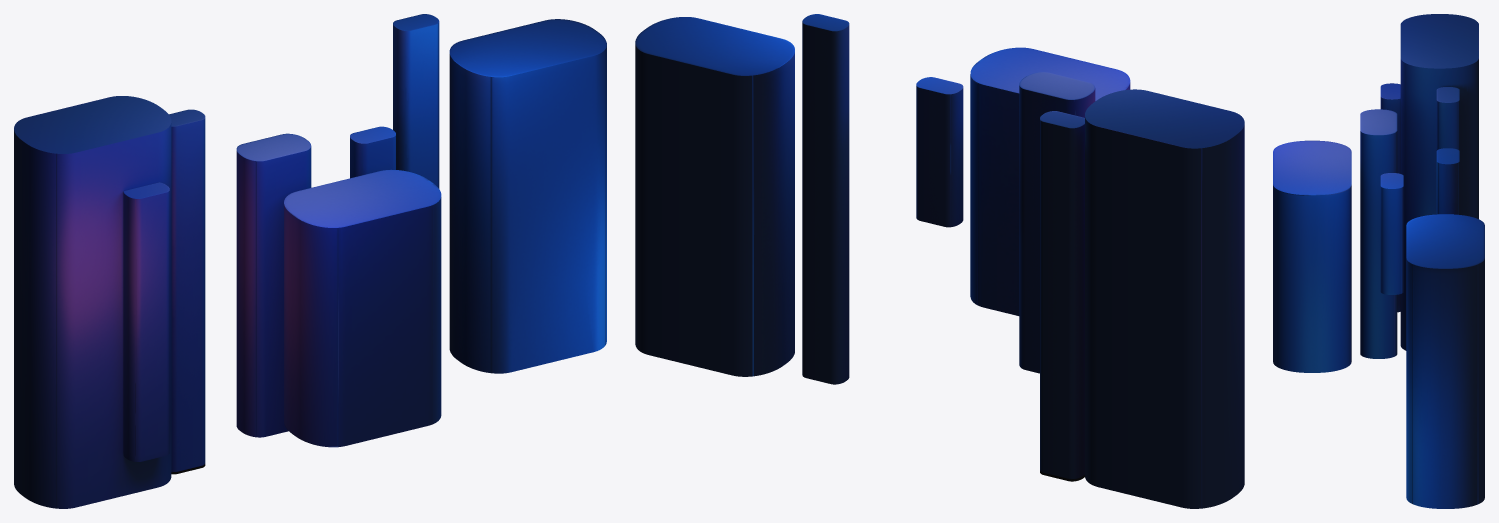
Rendered from telefono_base.glb.
The picture shows the model from 3 angles, left to right: view 1: azimuth 30°, elevation 25°; view 2: azimuth 150°, elevation 25°; view 3: azimuth 270°, elevation 25°; orthographic projection. The views are drawn at different scales.
Visible parts, largest first — view 1: Cube.034, Cube.035, Cube.033, Cube.037, Cube.040, Cube.039, Cube.038, Cube.036; view 2: Cube.035, Cube.034, Cube.038, Cube.039, Cube.033, Cube.037, Cube.036; view 3: Cube.034, Cube.033, Cube.035, Cube.037, Cube.036, Cube.038, Cube.039, Cube.040.
Boxes of the visible parts, <box> form: Cube.034: <box>449,19,606,373</box>; Cube.035: <box>14,96,171,508</box>; Cube.033: <box>284,169,441,447</box>; Cube.037: <box>236,133,311,437</box>; Cube.040: <box>123,182,169,461</box>; Cube.039: <box>169,109,205,474</box>; Cube.038: <box>393,14,439,188</box>; Cube.036: <box>350,126,395,178</box>; Cube.035: <box>1085,89,1244,508</box>; Cube.034: <box>635,17,794,376</box>; Cube.038: <box>802,14,849,384</box>; Cube.039: <box>1040,111,1084,481</box>; Cube.033: <box>970,47,1130,315</box>; Cube.037: <box>1019,72,1095,373</box>; Cube.036: <box>916,77,963,227</box>; Cube.034: <box>1406,214,1484,508</box>; Cube.033: <box>1273,140,1351,372</box>; Cube.035: <box>1400,14,1478,350</box>; Cube.037: <box>1360,109,1397,358</box>; Cube.036: <box>1380,173,1403,294</box>; Cube.038: <box>1436,148,1459,214</box>; Cube.039: <box>1436,87,1459,150</box>; Cube.040: <box>1380,83,1400,312</box>.
Size of the model in its own units: 1.92 by 1.23 by 0.7538.
1 material, 1 textured.
